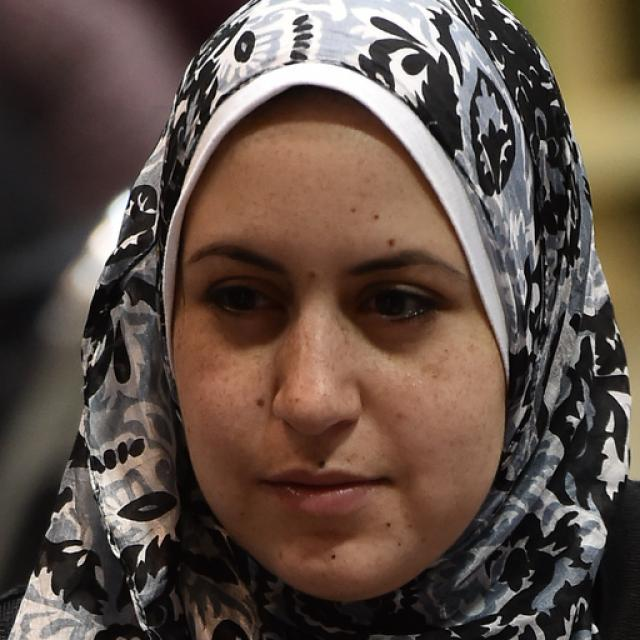content: (172, 83, 508, 598)
